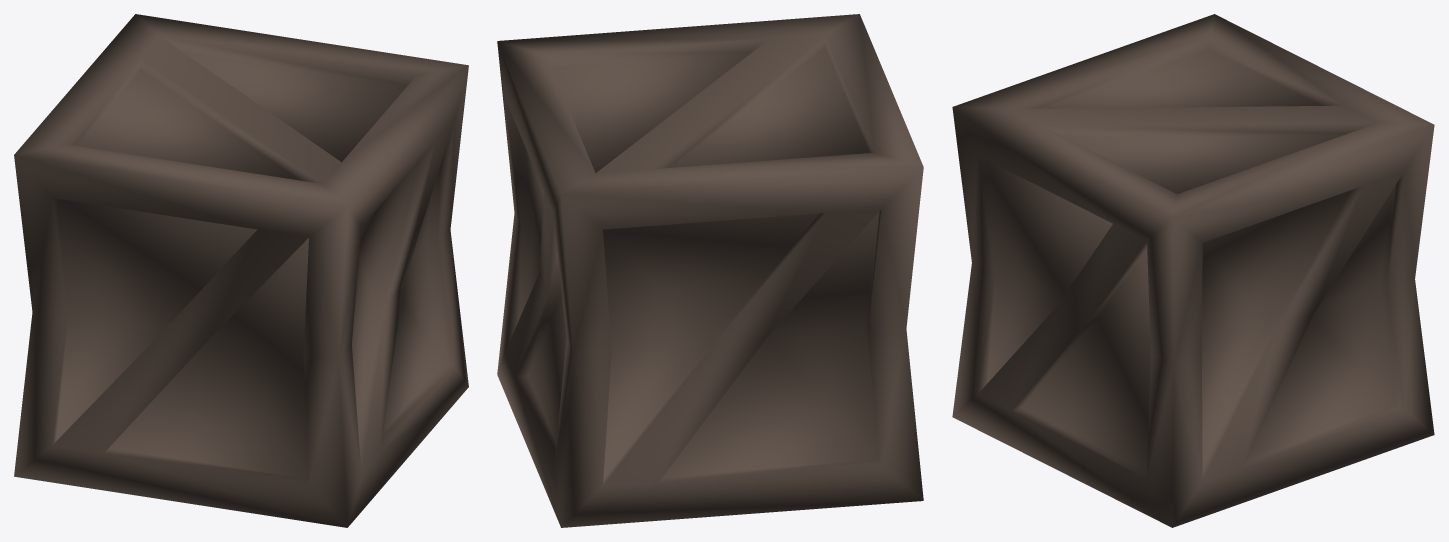
3 renders of one model, left to right at view 1: azimuth 30°, elevation 25°; view 2: azimuth 150°, elevation 25°; view 3: azimuth 270°, elevation 25°, orthographic. The views are drawn at different scales.
Visible parts, largest first — view 1: woodBox_0; view 2: woodBox_0; view 3: woodBox_0.
Boxes of the visible parts, <box> form: woodBox_0: <box>14,14,468,527</box>; woodBox_0: <box>497,14,923,527</box>; woodBox_0: <box>952,14,1434,527</box>.
Size of the model in its own units: 1.87 by 1.33 by 1.87.
